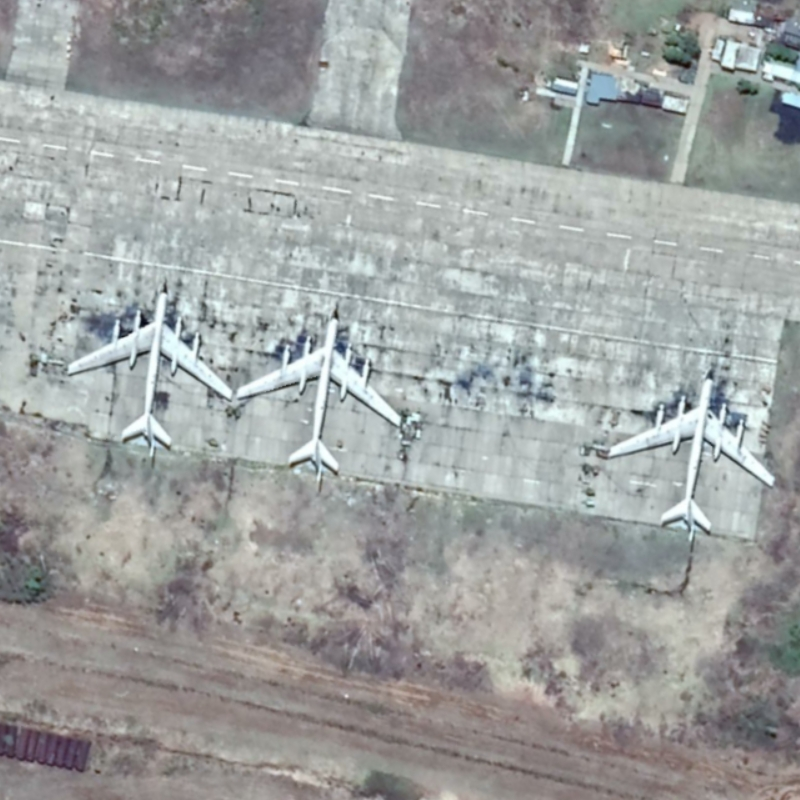A17: (63, 276, 234, 464), (601, 366, 779, 542), (234, 301, 403, 486)
